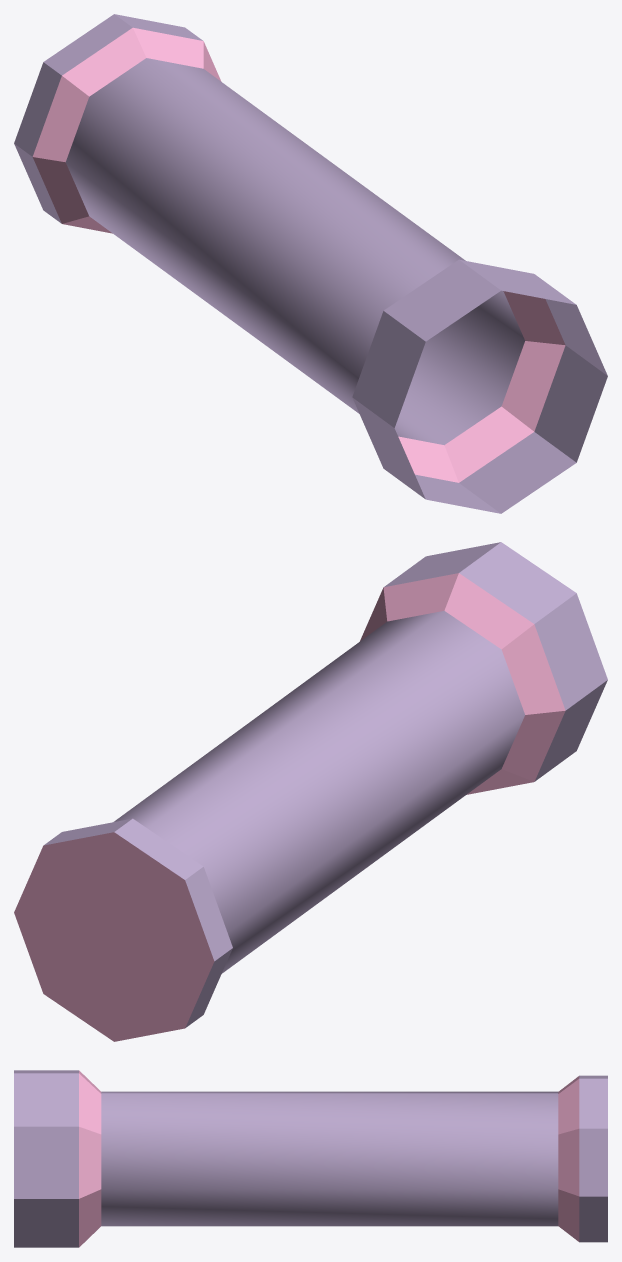
3 views of the same model, one above another, from view 1: azimuth 30°, elevation 25°; view 2: azimuth 150°, elevation 25°; view 3: azimuth 270°, elevation 25° (orthographic). The views are drawn at different scales.
Parts seen in each view (by area): view 1: Object91; view 2: Object91; view 3: Object91.
Boxes of the visible parts, x1,y1,x2,y2 form: Object91: [14, 14, 607, 513]; Object91: [14, 542, 607, 1041]; Object91: [14, 1070, 607, 1247].
Bounding box in the file's own units: 10003 × 10003 × 31428.
